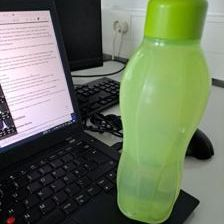bottle: (112, 1, 213, 223)
